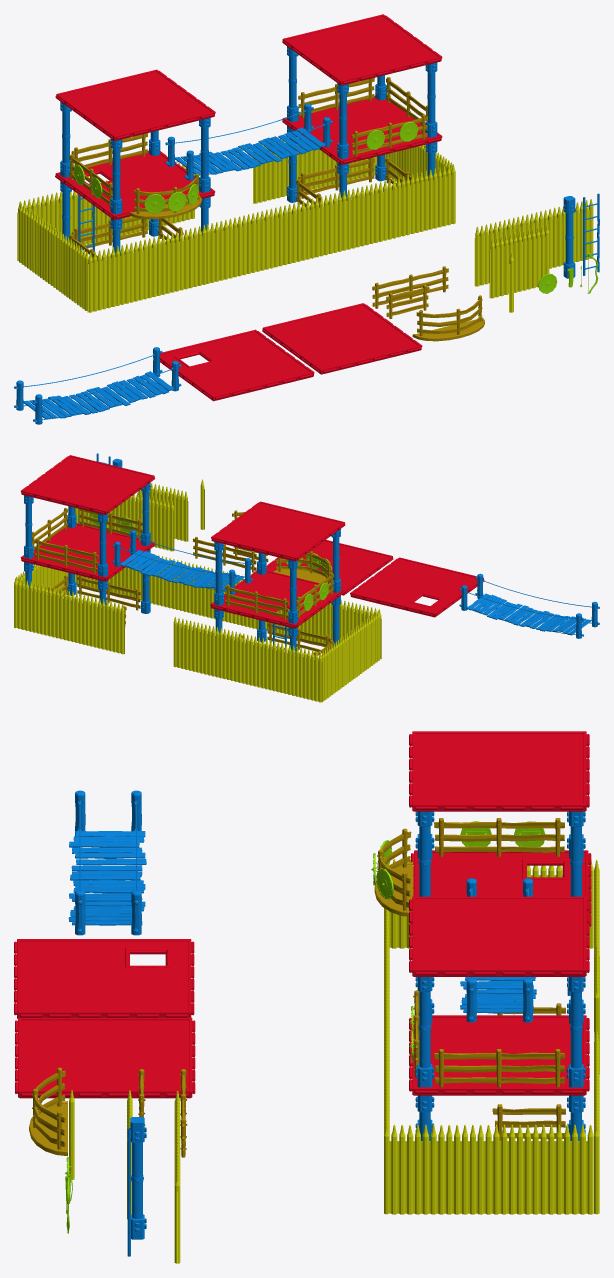
The model's file is Sketchfab.fbx.
The picture shows the model from 3 angles, top to bottom: view 1: azimuth 30°, elevation 25°; view 2: azimuth 150°, elevation 25°; view 3: azimuth 270°, elevation 25°; orthographic projection. The views are drawn at different scales.
Parts seen in each view (by area): view 1: pCylinder101, pCylinder103, pCylinder102, Floor2, Floor5, Floor4, Floor1, pCylinder63, pCylinder120, pCylinder106, pCylinder92, Floor6 (+24 smaller); view 2: pCylinder113, pCylinder111, Floor4, Floor5, Floor1, Floor6, Floor3, pCylinder63, pCylinder120, pCylinder106, pCylinder129, Floor2 (+22 smaller); view 3: pCylinder121, Floor4, Floor5, Floor2, Floor1, Floor6, pCylinder63, Floor3, pCylinder106, pCylinder108, pCylinder118, pCylinder95 (+9 smaller).
Boxes of the visible parts, box(x1,y1,x2,y2) form: pCylinder101: box(87, 225, 206, 312); pCylinder103: box(323, 167, 441, 255); pCylinder102: box(206, 196, 323, 283); Floor2: box(262, 303, 422, 374); Floor5: box(282, 14, 442, 85); Floor4: box(55, 69, 215, 140); Floor1: box(159, 329, 314, 401); pCylinder63: box(14, 347, 181, 424); pCylinder120: box(19, 203, 88, 310); pCylinder106: box(165, 103, 332, 180); pCylinder92: box(474, 199, 593, 286); Floor6: box(282, 95, 442, 164); pCylinder113: box(25, 580, 124, 654); pCylinder111: box(223, 629, 322, 702); Floor4: box(211, 501, 345, 561); Floor5: box(20, 455, 155, 514); Floor1: box(350, 557, 484, 617); Floor6: box(20, 523, 154, 581); Floor3: box(210, 570, 344, 628); pCylinder63: box(459, 573, 599, 638); pCylinder120: box(321, 610, 379, 701); pCylinder106: box(112, 530, 252, 594); pCylinder129: box(173, 617, 222, 678); Floor2: box(266, 540, 393, 595); pCylinder121: box(389, 1124, 593, 1214); Floor4: box(409, 731, 589, 811); Floor5: box(409, 896, 589, 976); Floor2: box(15, 1017, 195, 1098); Floor1: box(14, 939, 194, 1018); Floor6: box(409, 1015, 589, 1095); pCylinder63: box(68, 790, 146, 935); Floor3: box(411, 850, 591, 926); pCylinder106: box(460, 878, 536, 1022); pCylinder108: box(434, 818, 564, 856); pCylinder118: box(434, 1049, 564, 1087); pCylinder95: box(29, 1067, 67, 1156).
Size of the model in its own units: 70.35 by 18.38 by 40.32.
